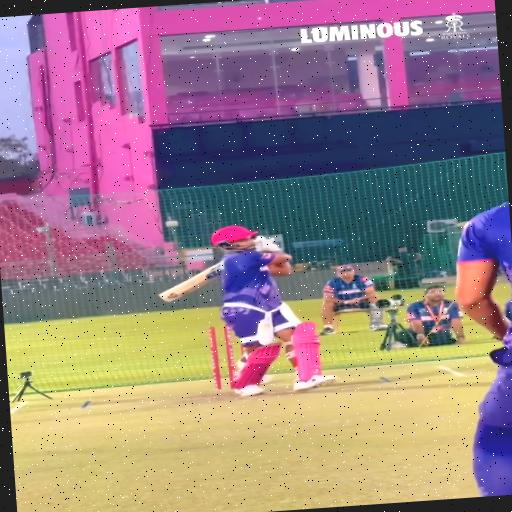Cricket bat: (159, 263, 219, 302)
